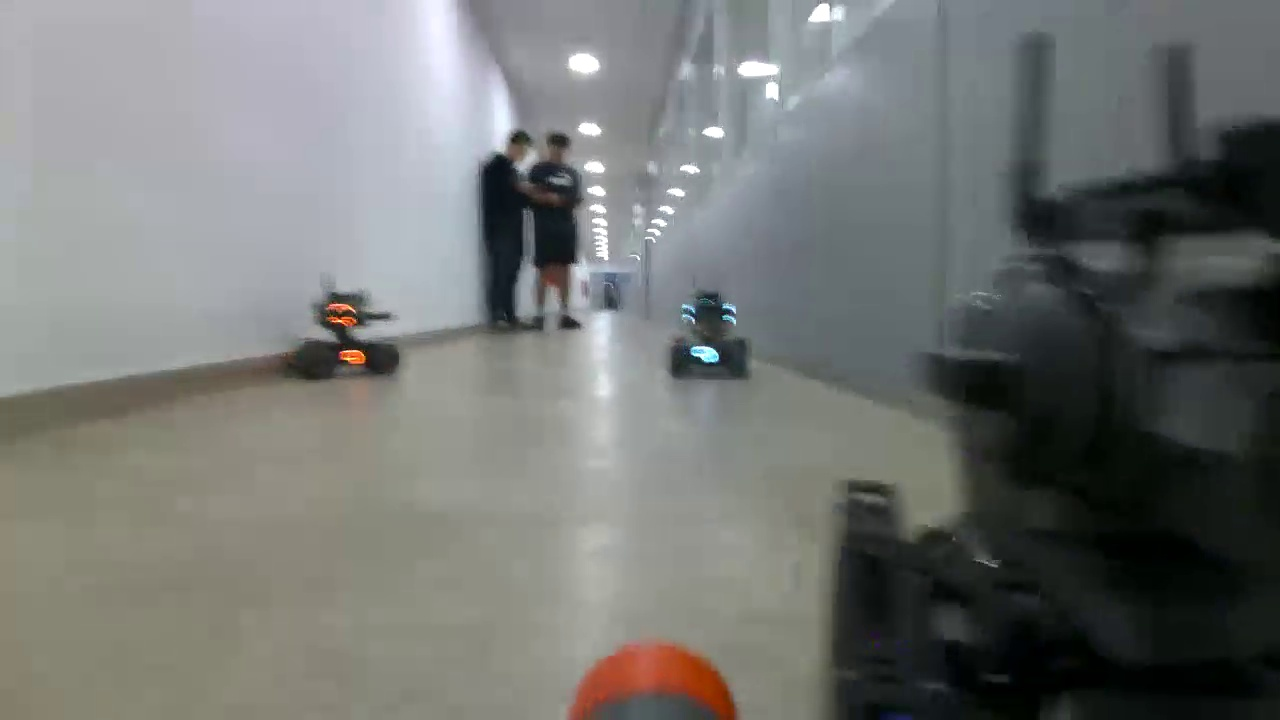robot: (827, 123, 1280, 720), (292, 290, 406, 380), (670, 291, 752, 382)
